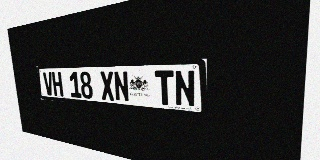1: (69, 72, 82, 98)
8: (79, 71, 93, 99)
H: (52, 72, 64, 97)
N: (174, 70, 196, 108), (113, 71, 130, 102)
T: (155, 70, 175, 106)
V: (43, 72, 54, 96)
X: (100, 71, 115, 101)
